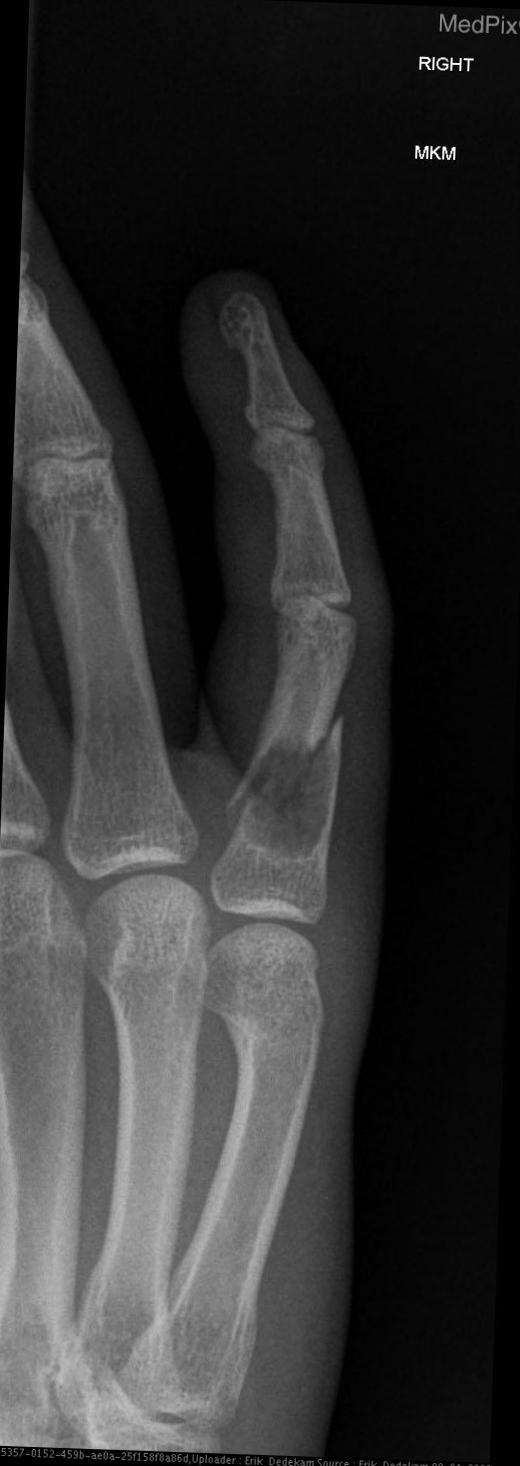fracture: (222, 706, 350, 862), (207, 1005, 254, 1056)
